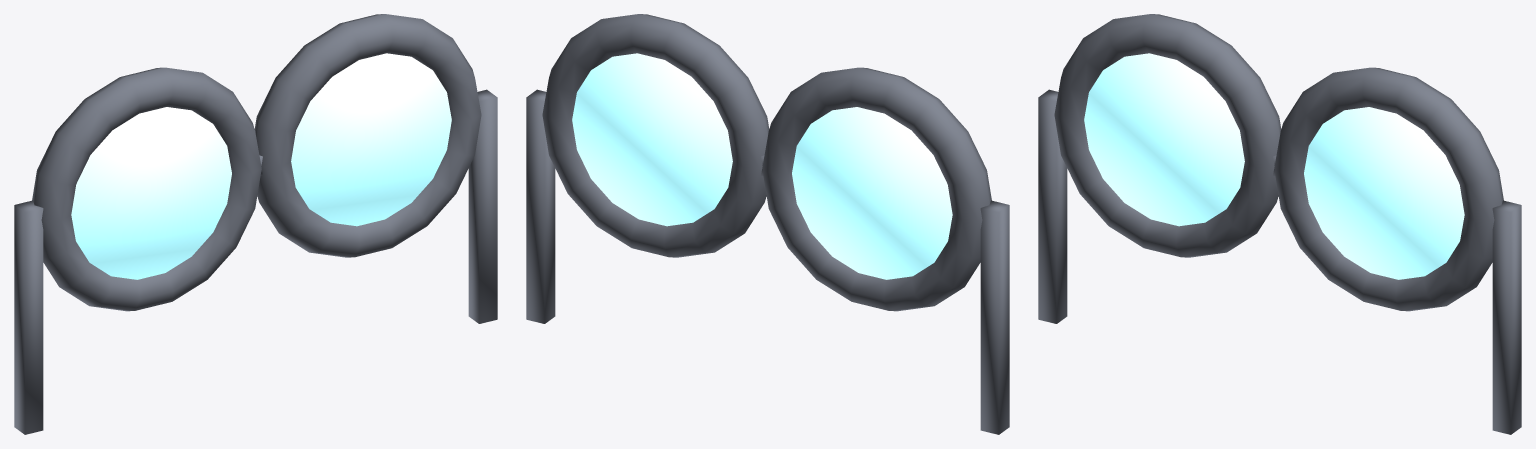
The model's file is Prop_ProbeCell.fbx.
The picture shows the model from 3 angles, left to right: view 1: azimuth 30°, elevation 25°; view 2: azimuth 150°, elevation 25°; view 3: azimuth 330°, elevation 25°; orthographic projection.
Visible parts, largest first — view 1: Prop_ProbeCell; view 2: Prop_ProbeCell; view 3: Prop_ProbeCell.
Part boxes in pixels (x1,y1,x2,y2): Prop_ProbeCell: (14, 14, 497, 434); Prop_ProbeCell: (526, 14, 1009, 434); Prop_ProbeCell: (1038, 14, 1521, 434).
Size of the model in its own units: 12.9 by 8.55 by 1.
